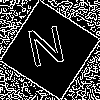N: (25, 25, 69, 77)
